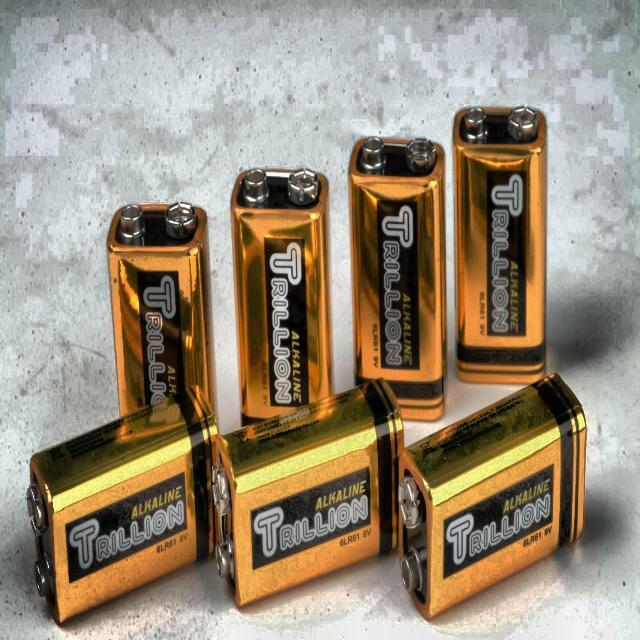battery: (399, 376, 586, 617), (28, 388, 218, 621), (214, 380, 404, 605), (349, 138, 446, 420), (452, 108, 546, 383), (231, 169, 332, 424), (108, 203, 216, 414)
